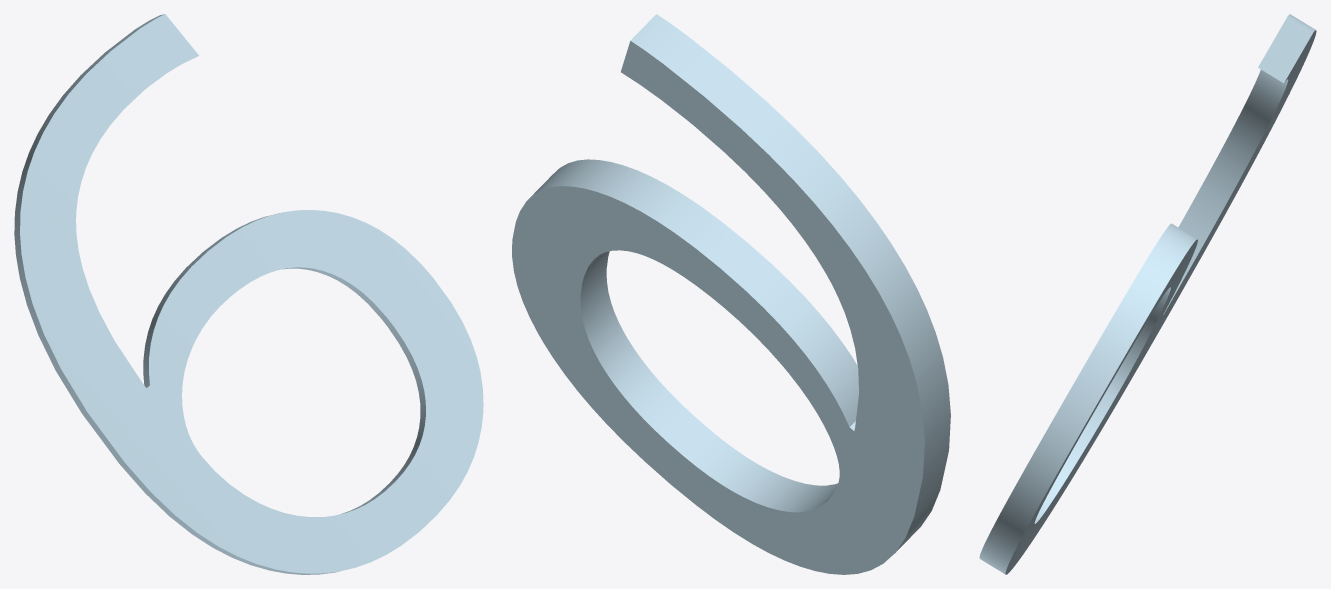
File: Number_6.gltf
3 views of the same model, side by side, from view 1: azimuth 30°, elevation 25°; view 2: azimuth 150°, elevation 25°; view 3: azimuth 270°, elevation 25° (orthographic). The views are drawn at different scales.
Visible parts, largest first — view 1: Sub_3_Cell_1_2_Number_6; view 2: Sub_3_Cell_1_2_Number_6; view 3: Sub_3_Cell_1_2_Number_6.
Part boxes in pixels (x1,y1,x2,y2): Sub_3_Cell_1_2_Number_6: (14,14,483,574); Sub_3_Cell_1_2_Number_6: (512,14,950,574); Sub_3_Cell_1_2_Number_6: (979,14,1316,574).
Size of the model in its own units: 0.0194 by 0.024 by 0.014.
